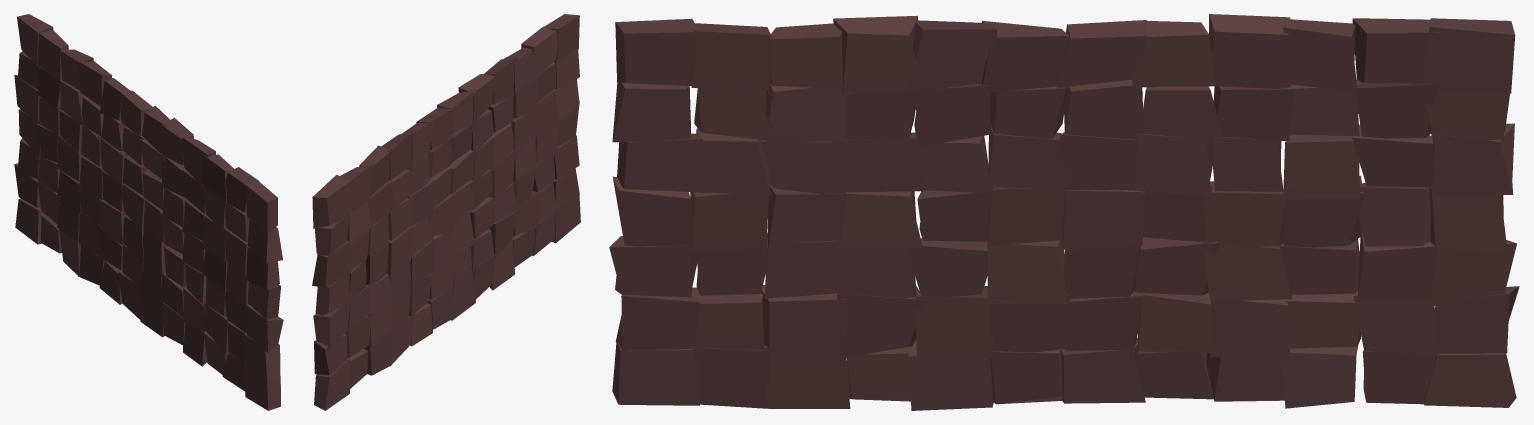
Rendered from randWall.fbx.
The picture shows the model from 3 angles, left to right: view 1: azimuth 30°, elevation 25°; view 2: azimuth 150°, elevation 25°; view 3: azimuth 270°, elevation 25°; orthographic projection. The views are drawn at different scales.
Parts seen in each view (by area): view 1: Cube; view 2: Cube; view 3: Cube.
Boxes of the visible parts, left/top/right/bottom form: Cube: left=14, top=14, right=283, bottom=410; Cube: left=312, top=14, right=580, bottom=410; Cube: left=609, top=14, right=1519, bottom=410.
Bounding box in the file's own units: 53.41 × 648 × 1380.
